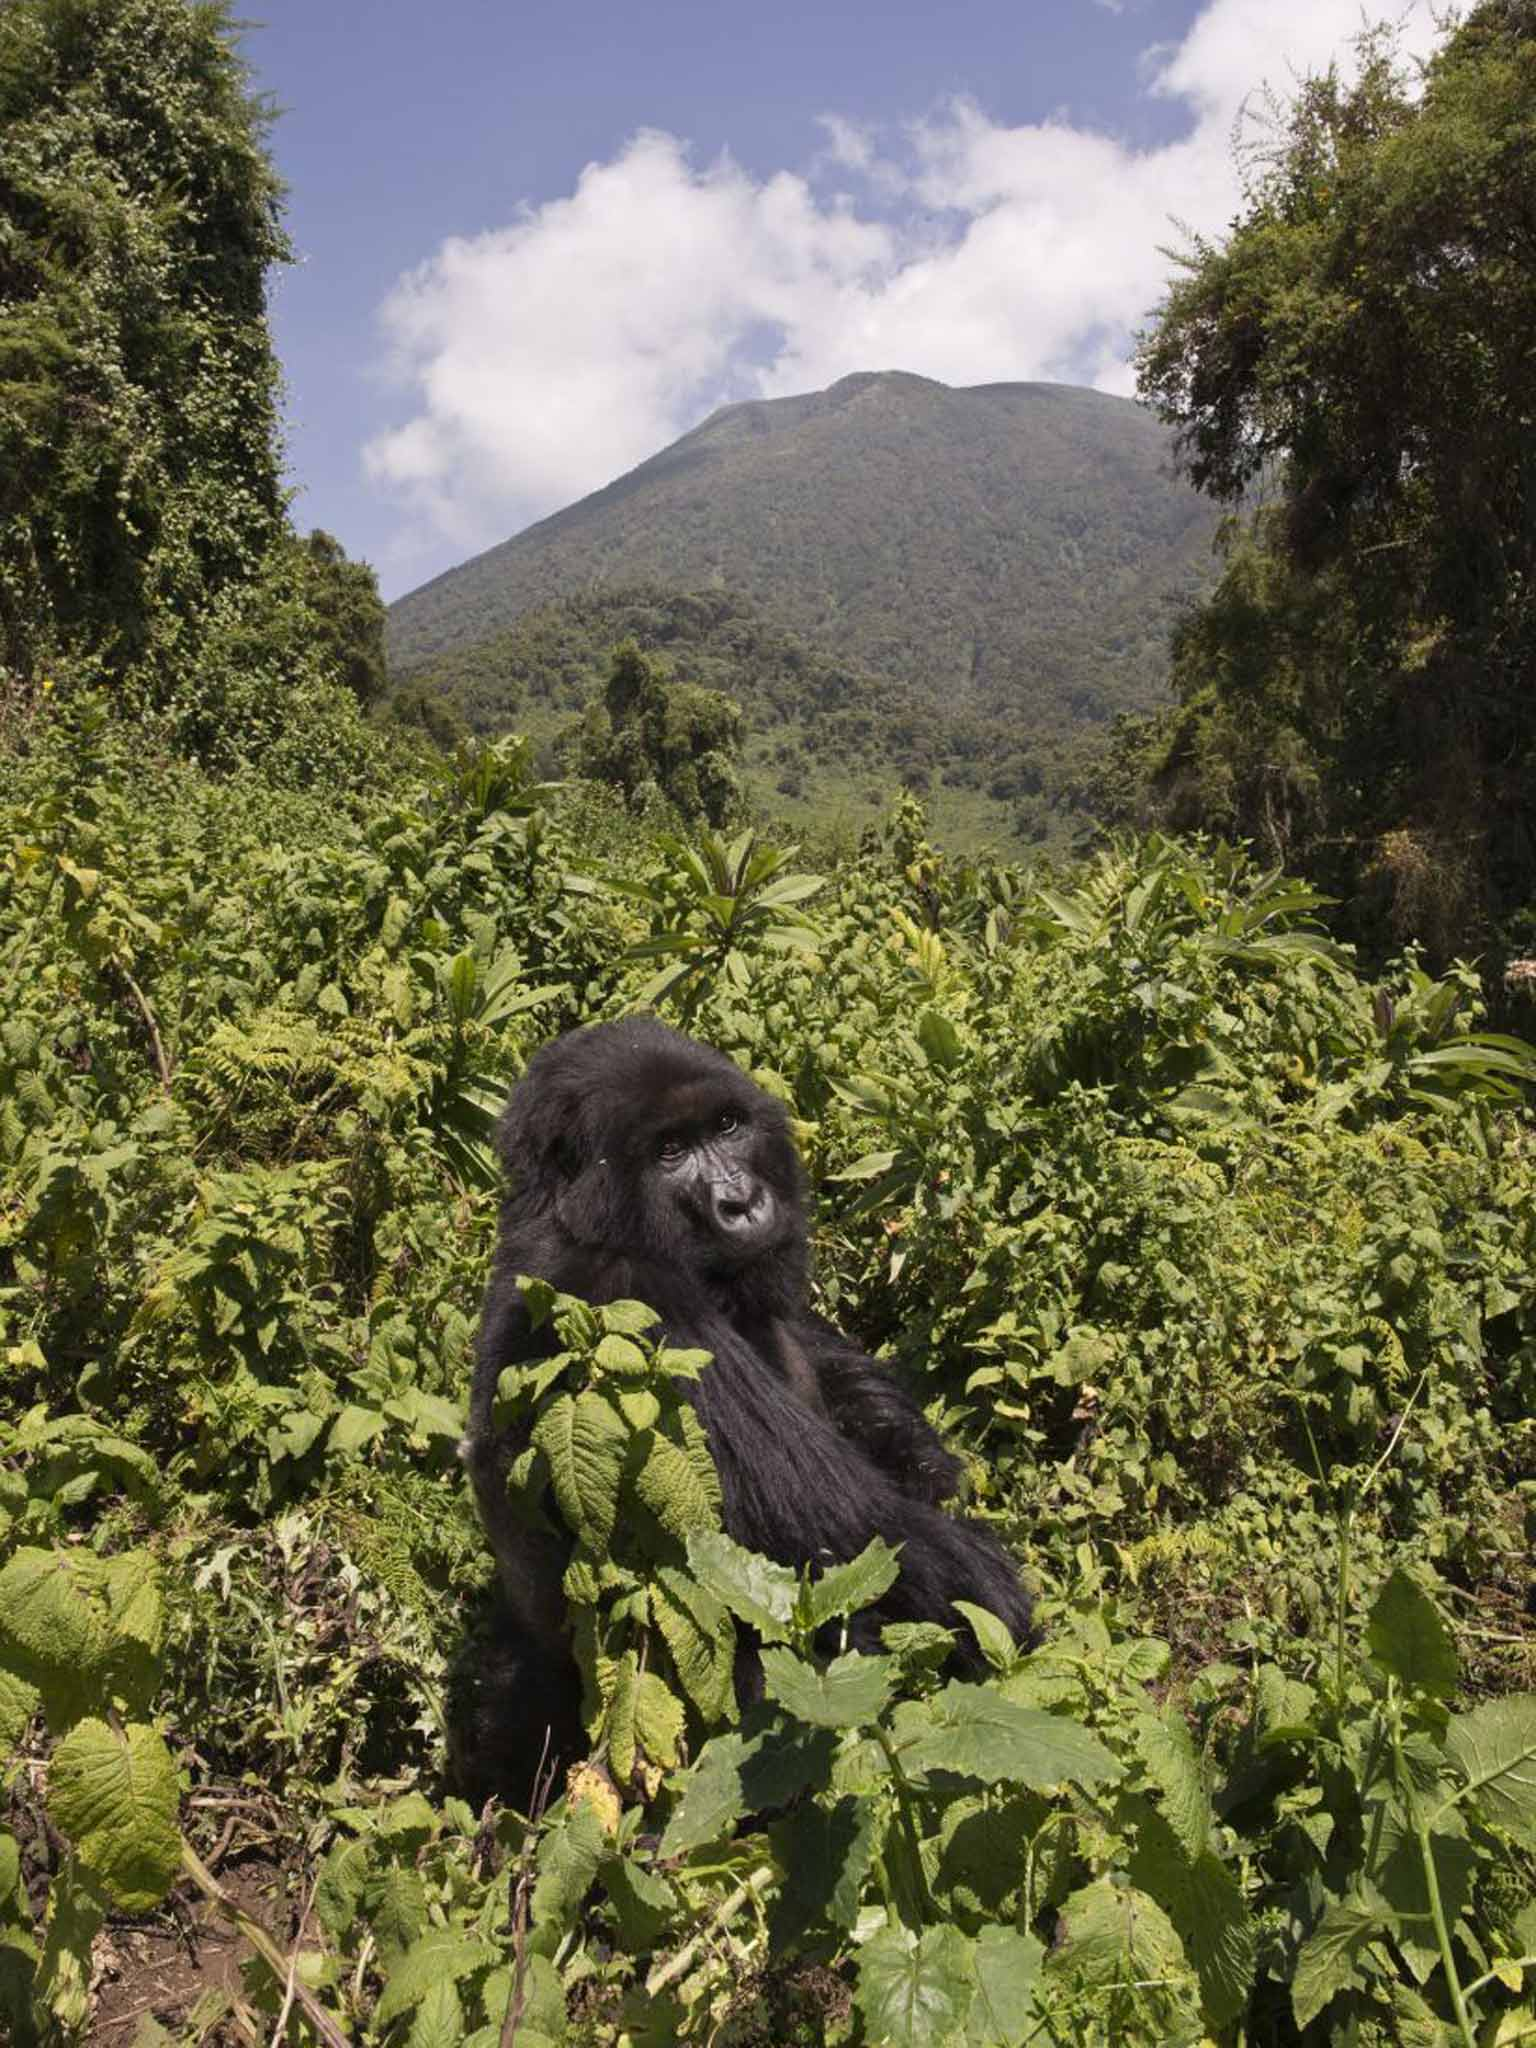Goriila: (373, 880, 1123, 2004)
